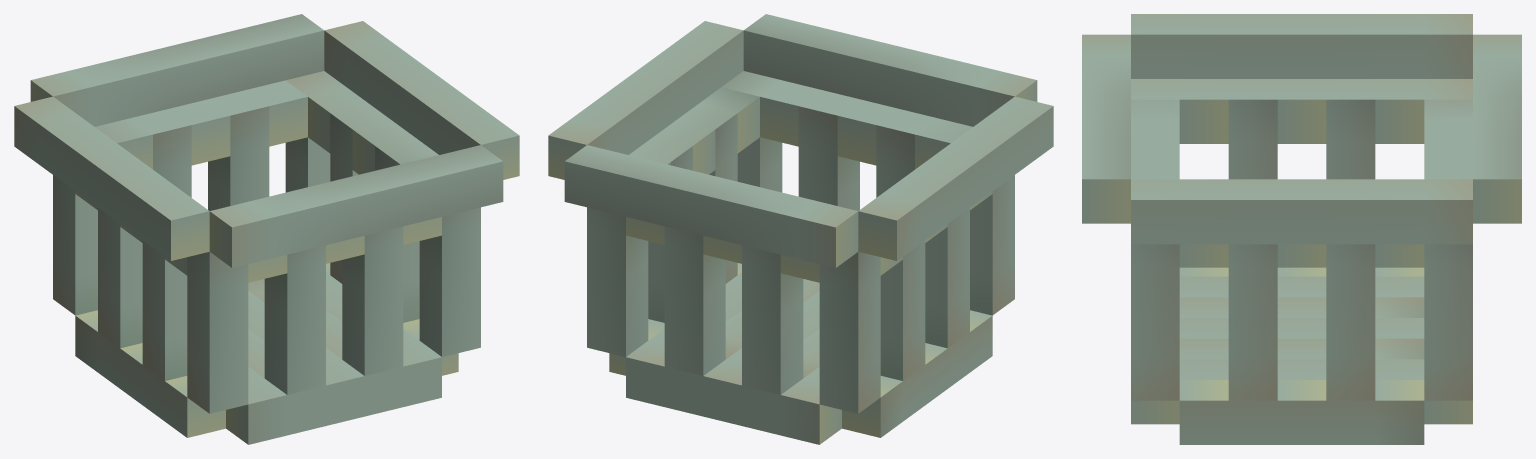
The model's file is EmptyBasket_02.obj.
The picture shows the model from 3 angles, left to right: view 1: azimuth 30°, elevation 25°; view 2: azimuth 150°, elevation 25°; view 3: azimuth 270°, elevation 25°; orthographic projection. The views are drawn at different scales.
Visible parts, largest first — view 1: EmptyBasket_02; view 2: EmptyBasket_02; view 3: EmptyBasket_02.
Boxes of the visible parts, x1,y1,x2,y2 form: EmptyBasket_02: [14, 14, 519, 444]; EmptyBasket_02: [548, 14, 1053, 444]; EmptyBasket_02: [1082, 14, 1521, 444].
Bounding box in the file's own units: 0.45 × 0.3 × 0.45.
